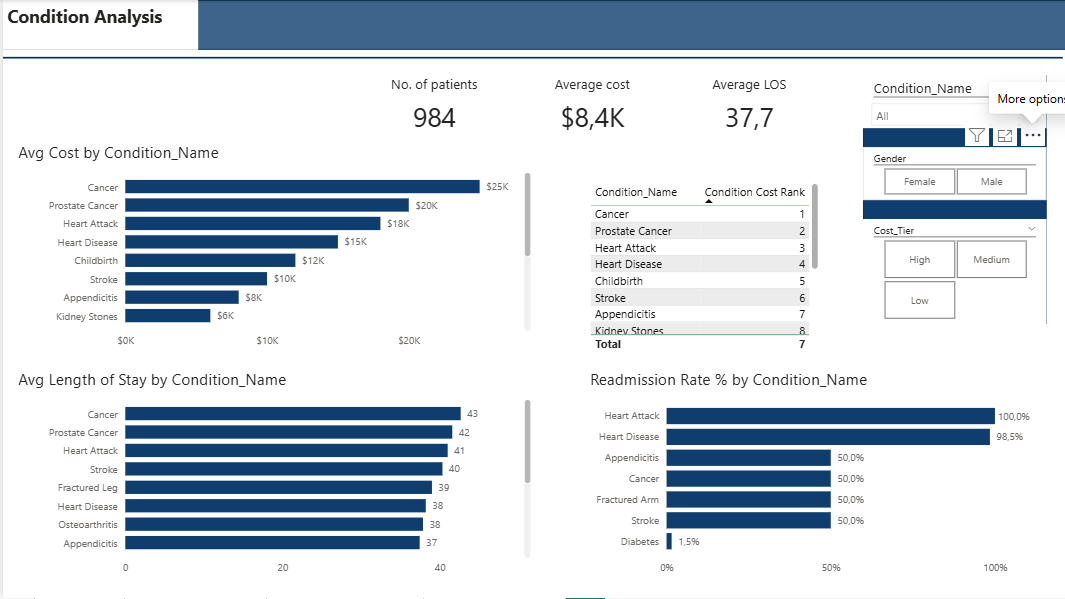

The dashboard page shown, as its layout file describes it:
{"tool":"powerbi","page":{"name":"Condition Analysis","canvas":[1280,720],"ordinal":1},"visuals":[{"type":"shape","box":[1034.9,90.6,221.1,299.7],"z":0},{"type":"shape","box":[0,0,1280,59.8],"z":1000},{"type":"textbox","box":[0,0,235.3,59.8],"z":2000},{"type":"clusteredBarChart","fields":{"Y":["_Measures.Avg Cost"],"Category":["hospital data analysis.Condition_Name"]},"box":[13.3,170.1,627.4,257.9],"z":3000},{"type":"barChart","fields":{"Y":["_Measures.Readmission Rate %"],"Category":["hospital data analysis.Condition_Name"]},"box":[701.8,442.6,554.3,257.9],"z":4000},{"type":"barChart","fields":{"Y":["_Measures.Avg Length of Stay"],"Category":["hospital data analysis.Condition_Name"]},"box":[13.3,442.6,627.4,257.9],"z":5000},{"type":"tableEx","fields":{"Values":["hospital data analysis.Condition_Name","_Measures.Condition Cost Rank"]},"box":[701.9,215.8,285,211.8],"z":6000},{"type":"card","title":"No. of patients","fields":{"Values":["_Measures.Total Patients"]},"box":[439.5,90.6,159.8,79.9],"z":7000},{"type":"card","title":"Average cost","fields":{"Values":["_Measures.Avg Cost"]},"box":[629.3,90.6,159.8,79.9],"z":8000},{"type":"card","title":"Average LOS","fields":{"Values":["_Measures.Avg Length of Stay"]},"box":[819.1,90.6,159.8,79.9],"z":9000},{"type":"slicer","fields":{"Values":["hospital data analysis.Condition_Name"]},"box":[1034.9,90.6,221.1,63.9],"z":10000},{"type":"slicer","fields":{"Values":["hospital data analysis.Gender"]},"box":[1034.9,177.1,221.1,63.9],"z":11000},{"type":"slicer","fields":{"Values":["hospital data analysis.Cost_Tier"]},"box":[1034.9,263.7,221.1,126.5],"z":12000},{"type":"shape","box":[0,48,1276,42.6],"z":13000}]}

Visuals, with their boxes on the page's 1280x720 design canvas (x1, y1, x2, y2). These are canvas units, not pixel positions in the 1065x599 screenshot, which may show the page scaled, cropped or inside an application window:
shape: l=1035, t=91, r=1256, b=390
shape: l=0, t=0, r=1280, b=60
textbox: l=0, t=0, r=235, b=60
clusteredBarChart - _Measures.Avg Cost x hospital data analysis.Condition_Name: l=13, t=170, r=641, b=428
barChart - _Measures.Readmission Rate % x hospital data analysis.Condition_Name: l=702, t=443, r=1256, b=700
barChart - _Measures.Avg Length of Stay x hospital data analysis.Condition_Name: l=13, t=443, r=641, b=700
tableEx - hospital data analysis.Condition_Name x _Measures.Condition Cost Rank: l=702, t=216, r=987, b=428
"No. of patients" card: l=440, t=91, r=599, b=170
"Average cost" card: l=629, t=91, r=789, b=170
"Average LOS" card: l=819, t=91, r=979, b=170
slicer - hospital data analysis.Condition_Name: l=1035, t=91, r=1256, b=154
slicer - hospital data analysis.Gender: l=1035, t=177, r=1256, b=241
slicer - hospital data analysis.Cost_Tier: l=1035, t=264, r=1256, b=390
shape: l=0, t=48, r=1276, b=91
